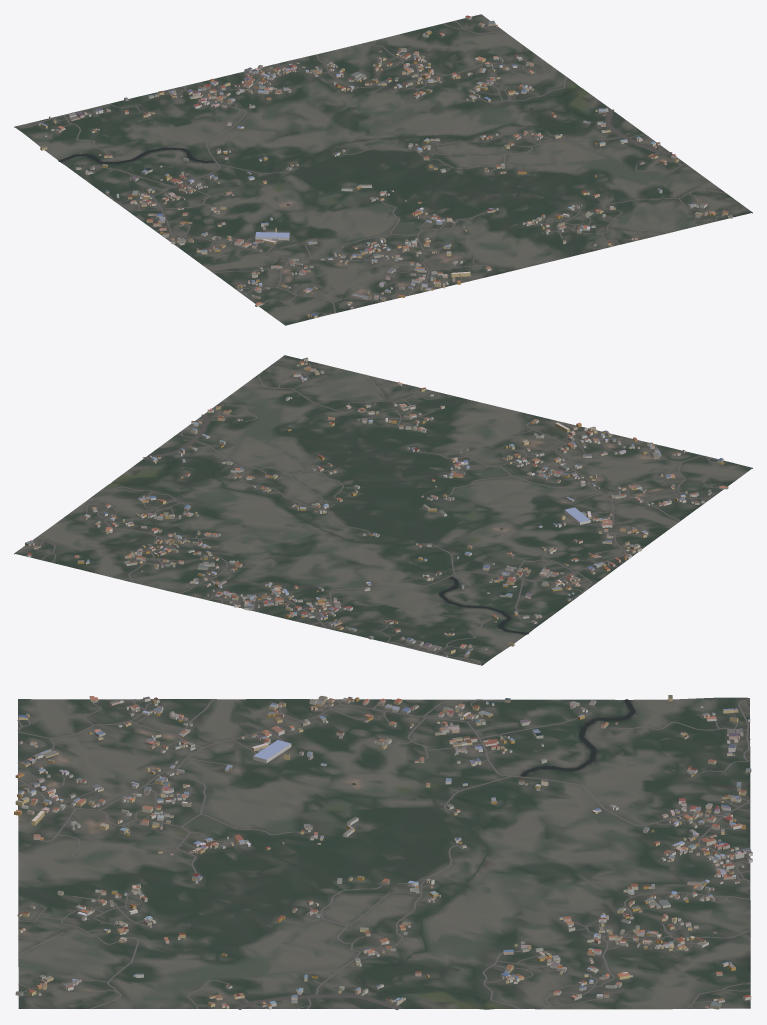
3 views of the same model, one above another, from view 1: azimuth 30°, elevation 25°; view 2: azimuth 150°, elevation 25°; view 3: azimuth 270°, elevation 25° (orthographic). The views are drawn at different scales.
Visible parts, largest first — view 1: ground, buildings, roads, water; view 2: ground, buildings, roads, water; view 3: ground, buildings, roads, water.
Part boxes in pixels (x1,y1,x2,y2): ground: (14, 14, 752, 325); buildings: (37, 15, 732, 318); roads: (16, 21, 726, 317); water: (58, 86, 594, 205); ground: (14, 355, 752, 665); buildings: (25, 357, 728, 657); roads: (38, 363, 718, 665); water: (112, 456, 528, 634); ground: (18, 697, 750, 1009); buildings: (14, 695, 752, 1009); roads: (17, 698, 750, 1009); water: (352, 699, 635, 1009).
Size of the model in its own units: 1410 by 17.87 by 1415.
